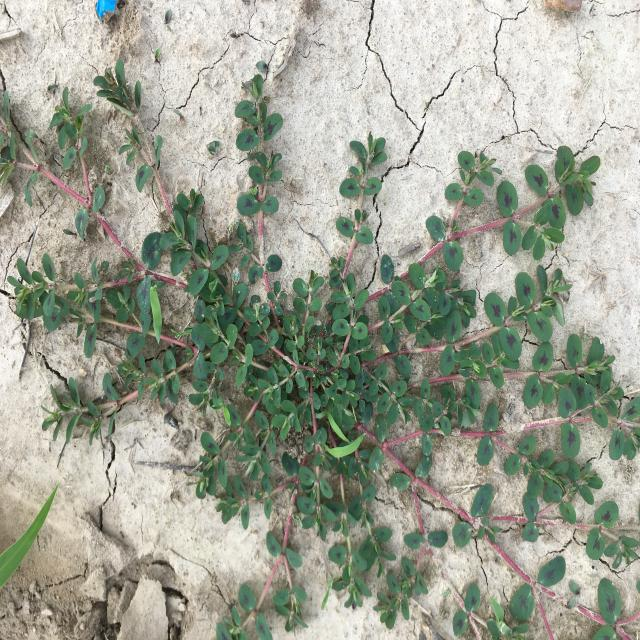SpottedSpurge: (1, 60, 640, 640)
